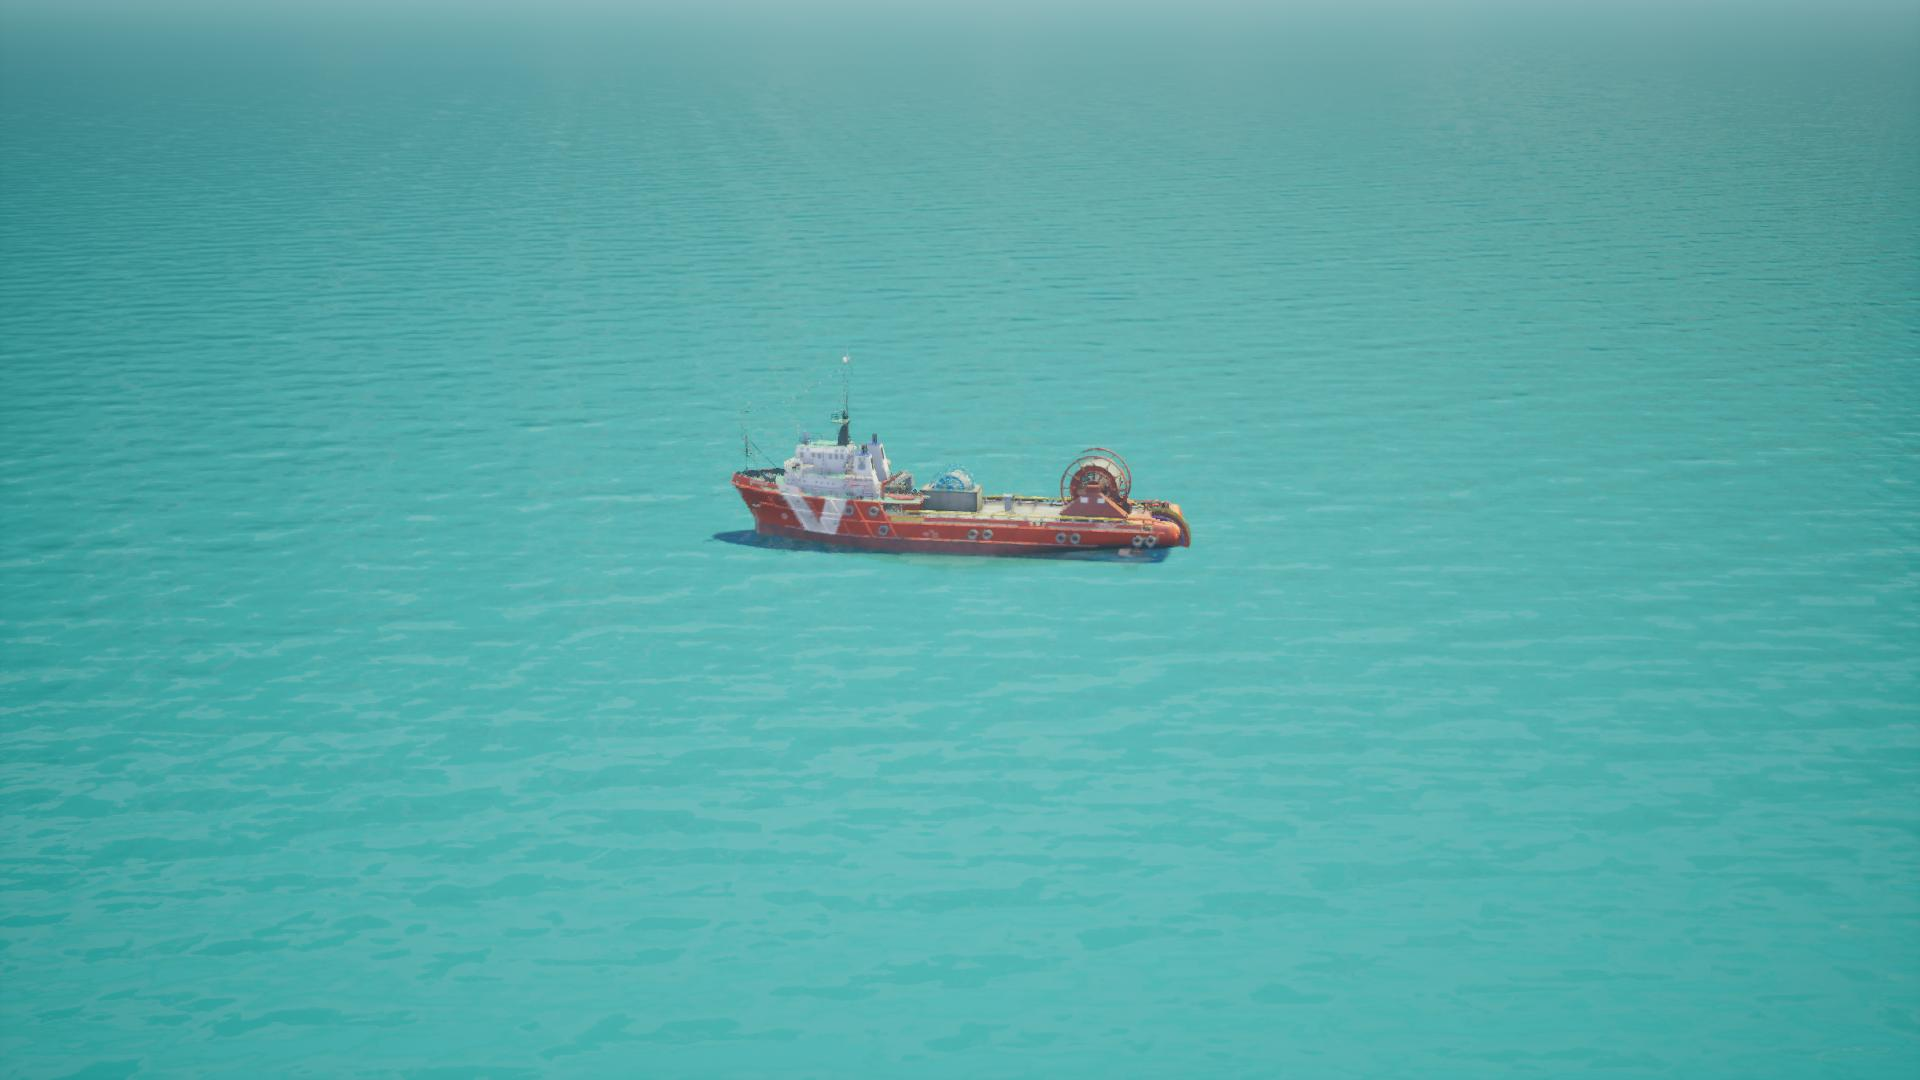Tug Boat: (720, 368, 1193, 571)
